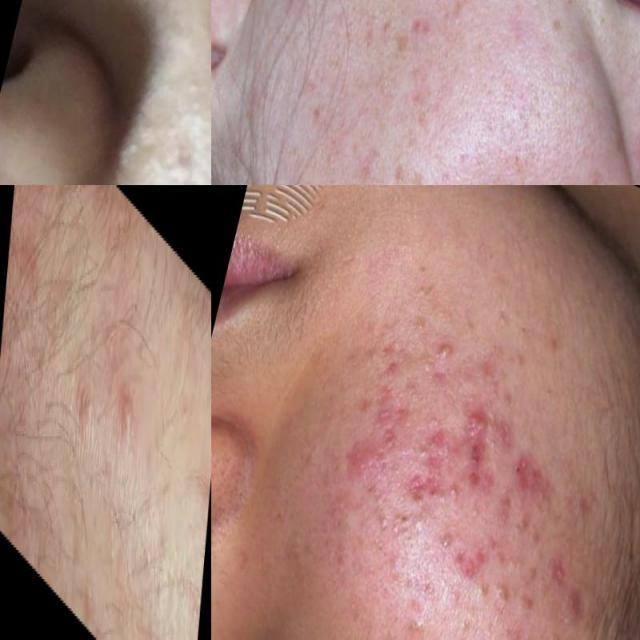Pimples: (406, 413, 499, 493), (83, 140, 181, 186), (550, 571, 598, 634), (502, 444, 546, 508), (449, 538, 496, 596), (338, 433, 384, 486), (457, 397, 500, 451), (430, 324, 468, 378), (117, 374, 140, 462), (400, 596, 438, 640), (484, 566, 516, 608), (499, 628, 549, 640)
